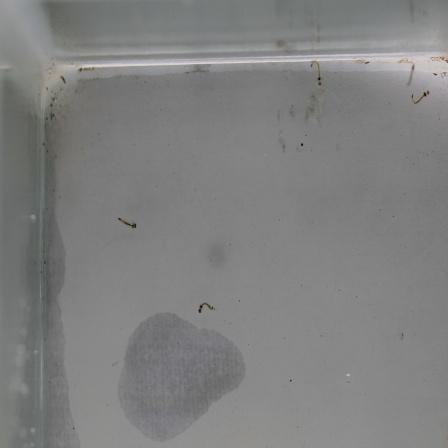Jentik-Nyamuk: (306, 55, 326, 93), (115, 211, 142, 233), (406, 86, 433, 107), (194, 297, 220, 317)
